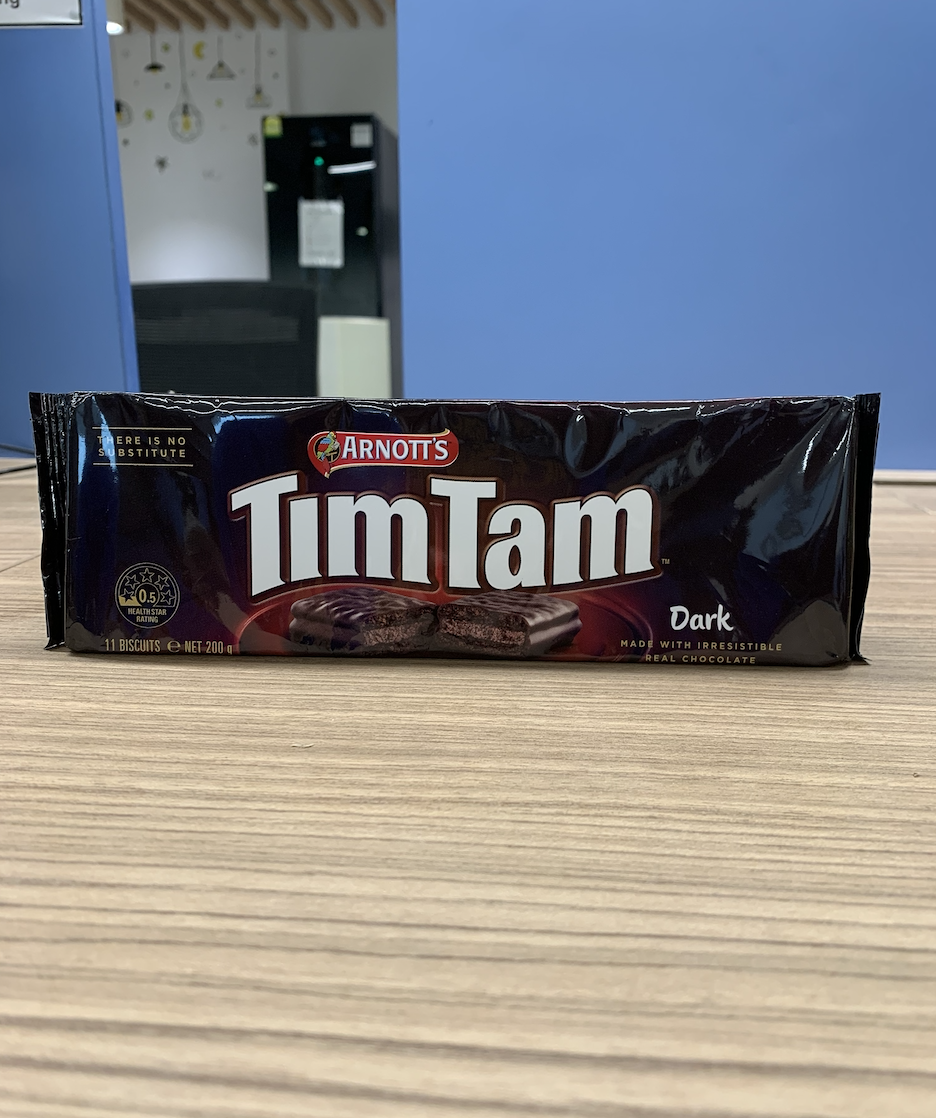cookies_200g-299g: (49, 392, 861, 667)
